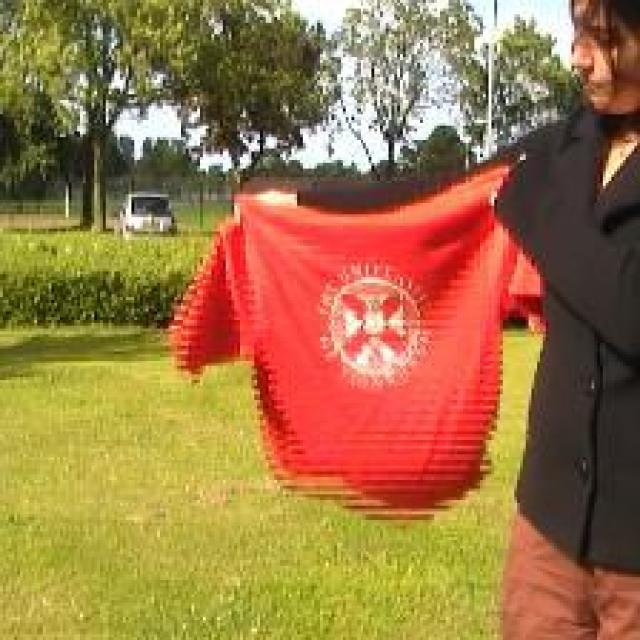other: (150, 165, 565, 512)
